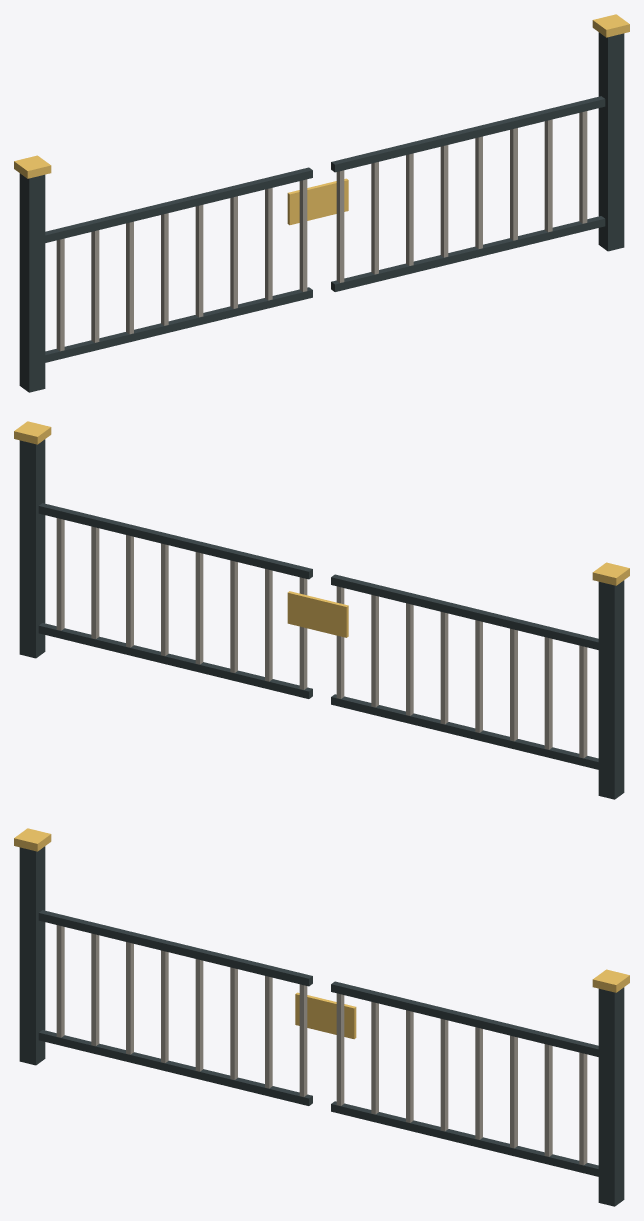
File: MIL_Gate_8m.fbx
3 renders of one model, top to bottom at view 1: azimuth 30°, elevation 25°; view 2: azimuth 150°, elevation 25°; view 3: azimuth 330°, elevation 25°, orthographic.
Parts seen in each view (by area): view 1: MIL_Gate_8m_Gunmetal, MIL_Gate_8m_MAT_IslandCliff, MIL_Gate_8m_Warning Yellow; view 2: MIL_Gate_8m_Gunmetal, MIL_Gate_8m_MAT_IslandCliff, MIL_Gate_8m_Warning Yellow; view 3: MIL_Gate_8m_Gunmetal, MIL_Gate_8m_MAT_IslandCliff, MIL_Gate_8m_Warning Yellow.
Boxes of the visible parts, x1,y1,x2,y2 form: MIL_Gate_8m_Gunmetal: [19, 32, 624, 392]; MIL_Gate_8m_MAT_IslandCliff: [56, 111, 587, 351]; MIL_Gate_8m_Warning Yellow: [14, 14, 629, 225]; MIL_Gate_8m_Gunmetal: [19, 439, 624, 799]; MIL_Gate_8m_MAT_IslandCliff: [56, 518, 587, 758]; MIL_Gate_8m_Warning Yellow: [14, 421, 629, 637]; MIL_Gate_8m_Gunmetal: [19, 846, 624, 1206]; MIL_Gate_8m_MAT_IslandCliff: [56, 925, 587, 1165]; MIL_Gate_8m_Warning Yellow: [14, 828, 629, 1039].
Size of the model in its own units: 816 by 290 by 32.
